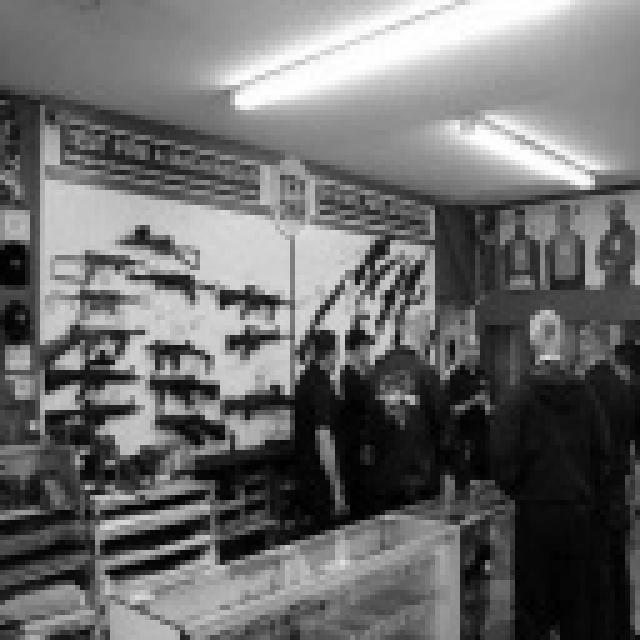Rifle: (0, 0, 241, 269), (15, 371, 157, 457), (5, 315, 184, 364), (35, 344, 187, 397), (129, 410, 271, 450), (116, 323, 216, 379), (201, 384, 318, 428), (38, 286, 187, 319), (213, 258, 283, 328), (333, 252, 432, 301), (370, 277, 447, 338), (299, 228, 393, 274), (284, 281, 348, 337), (229, 321, 291, 369)
